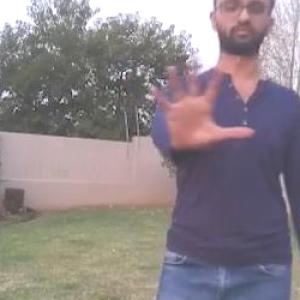follow_hand: (140, 38, 255, 154)
